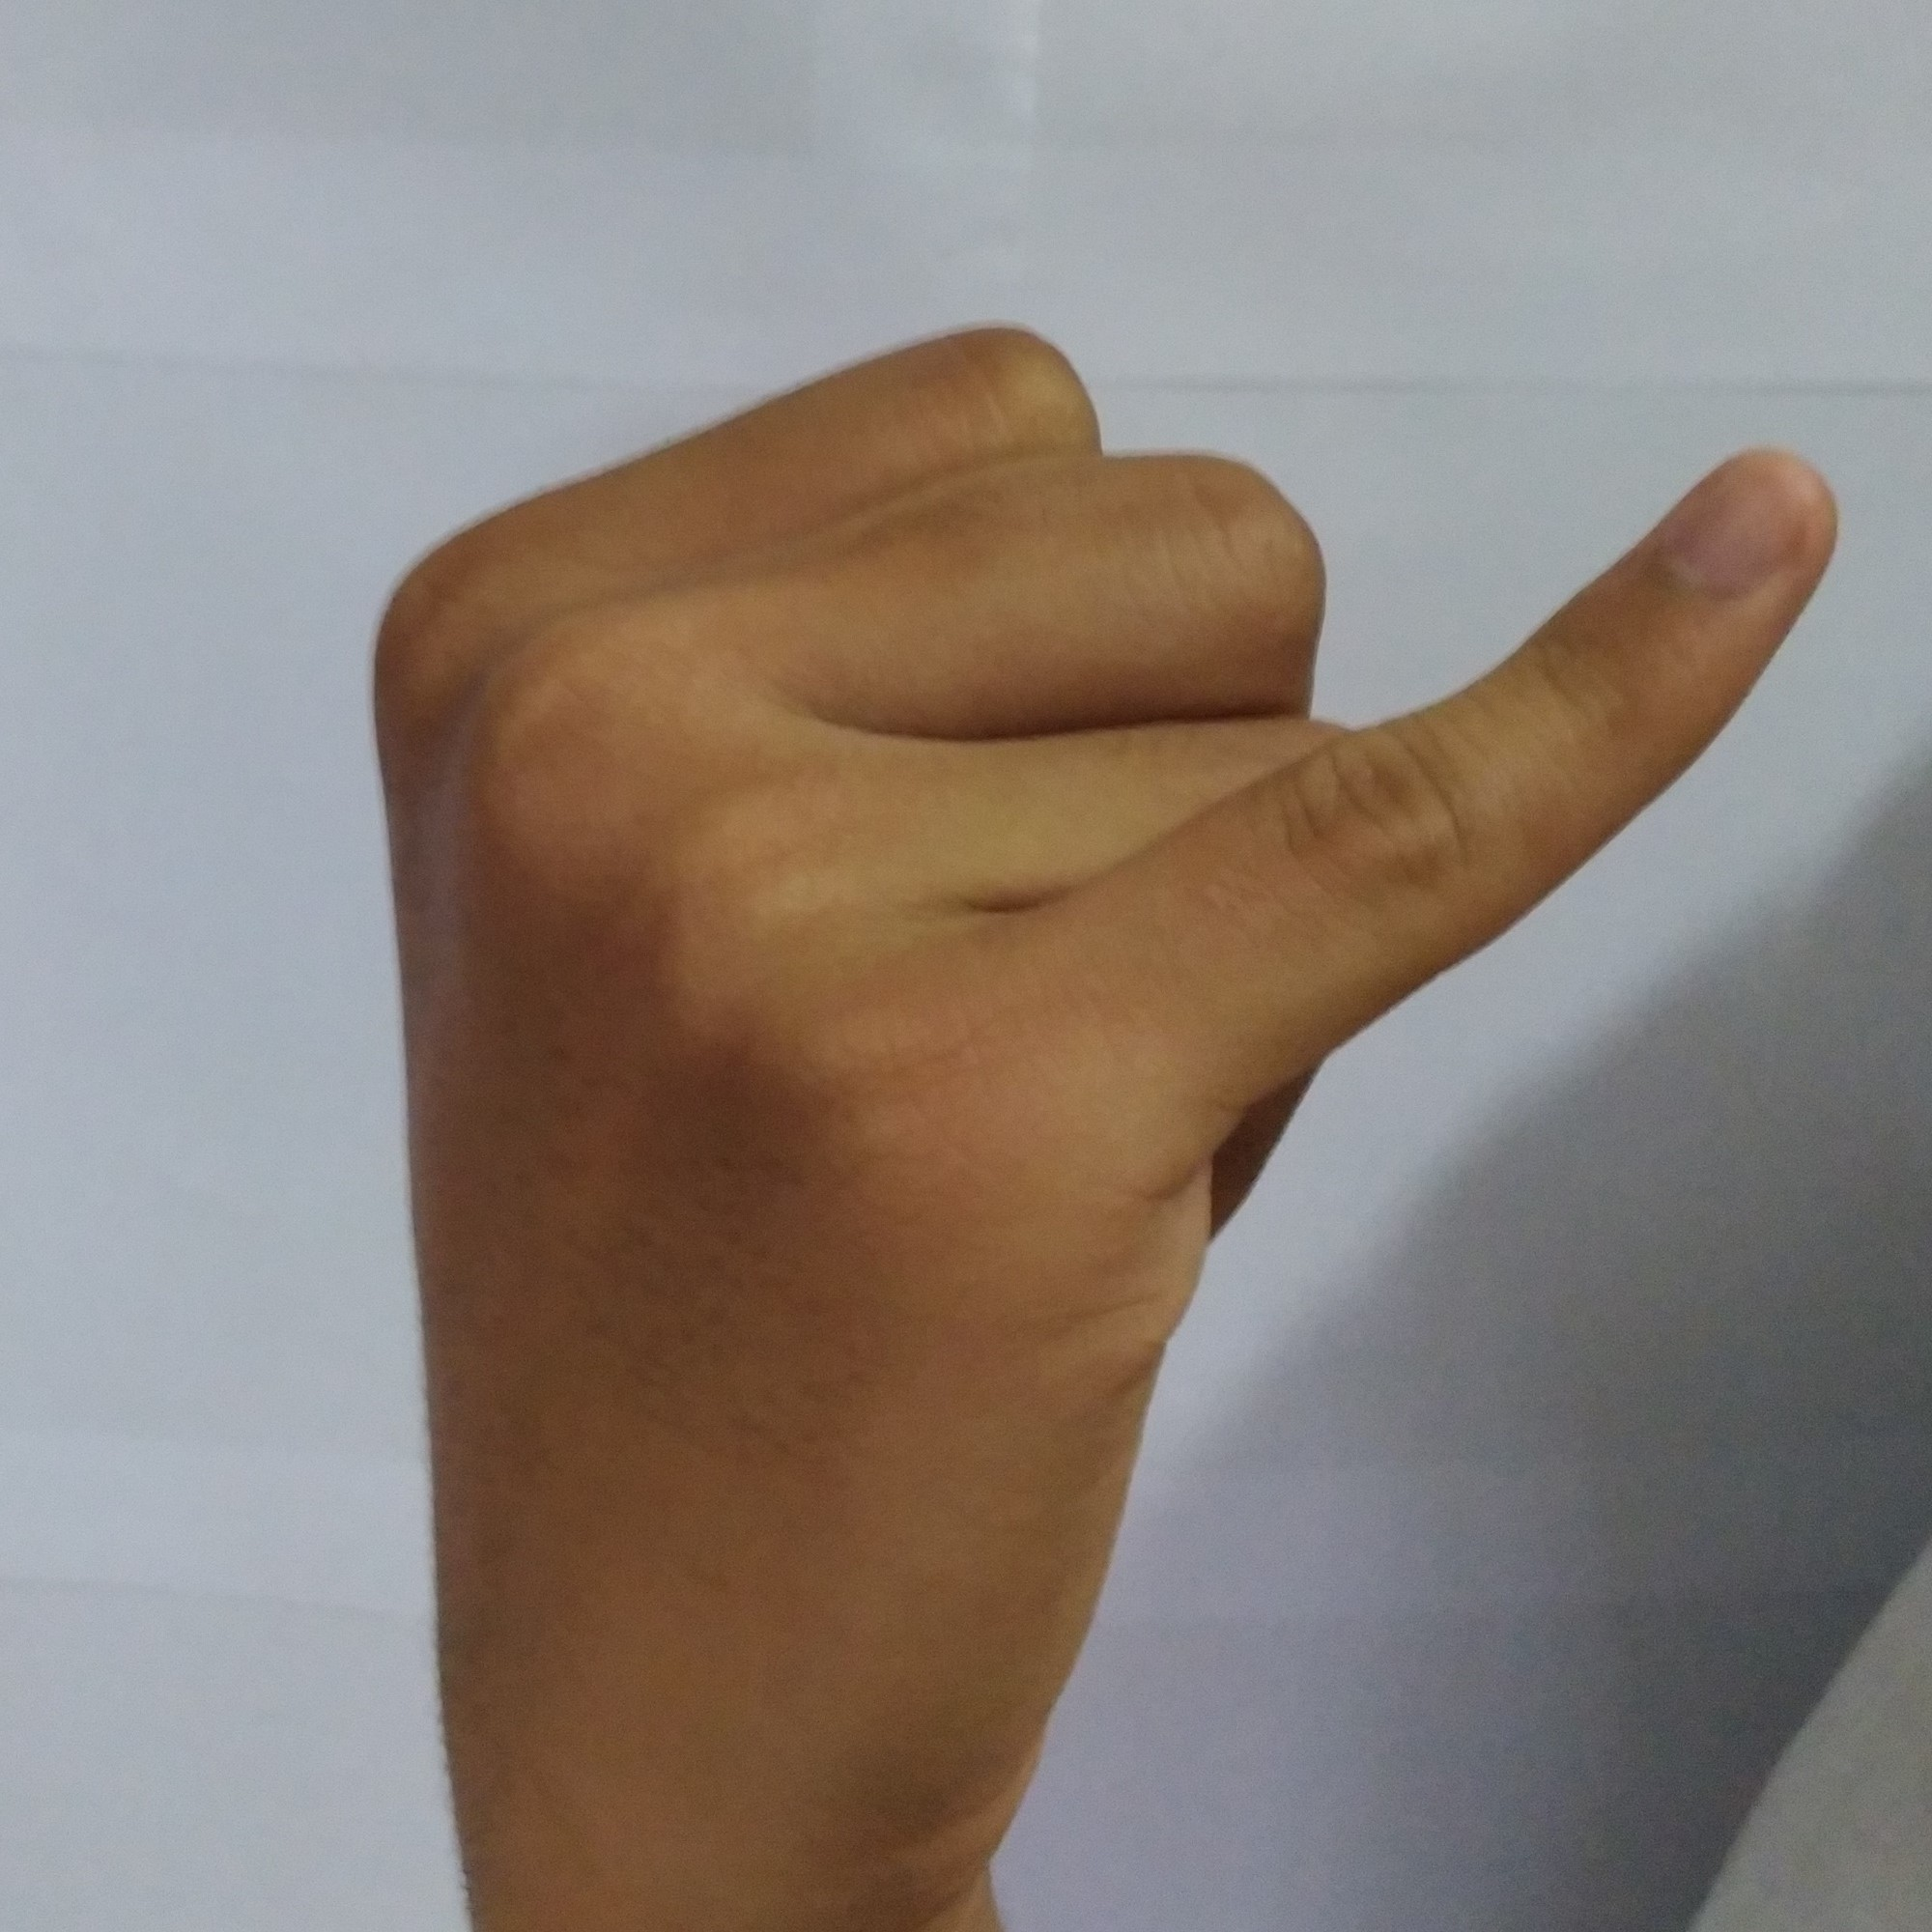J: (333, 294, 1865, 1854)
